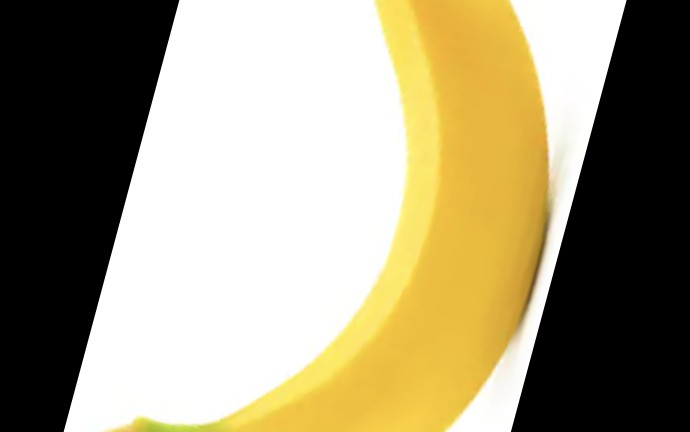fresh_banana: (110, 1, 550, 432)
